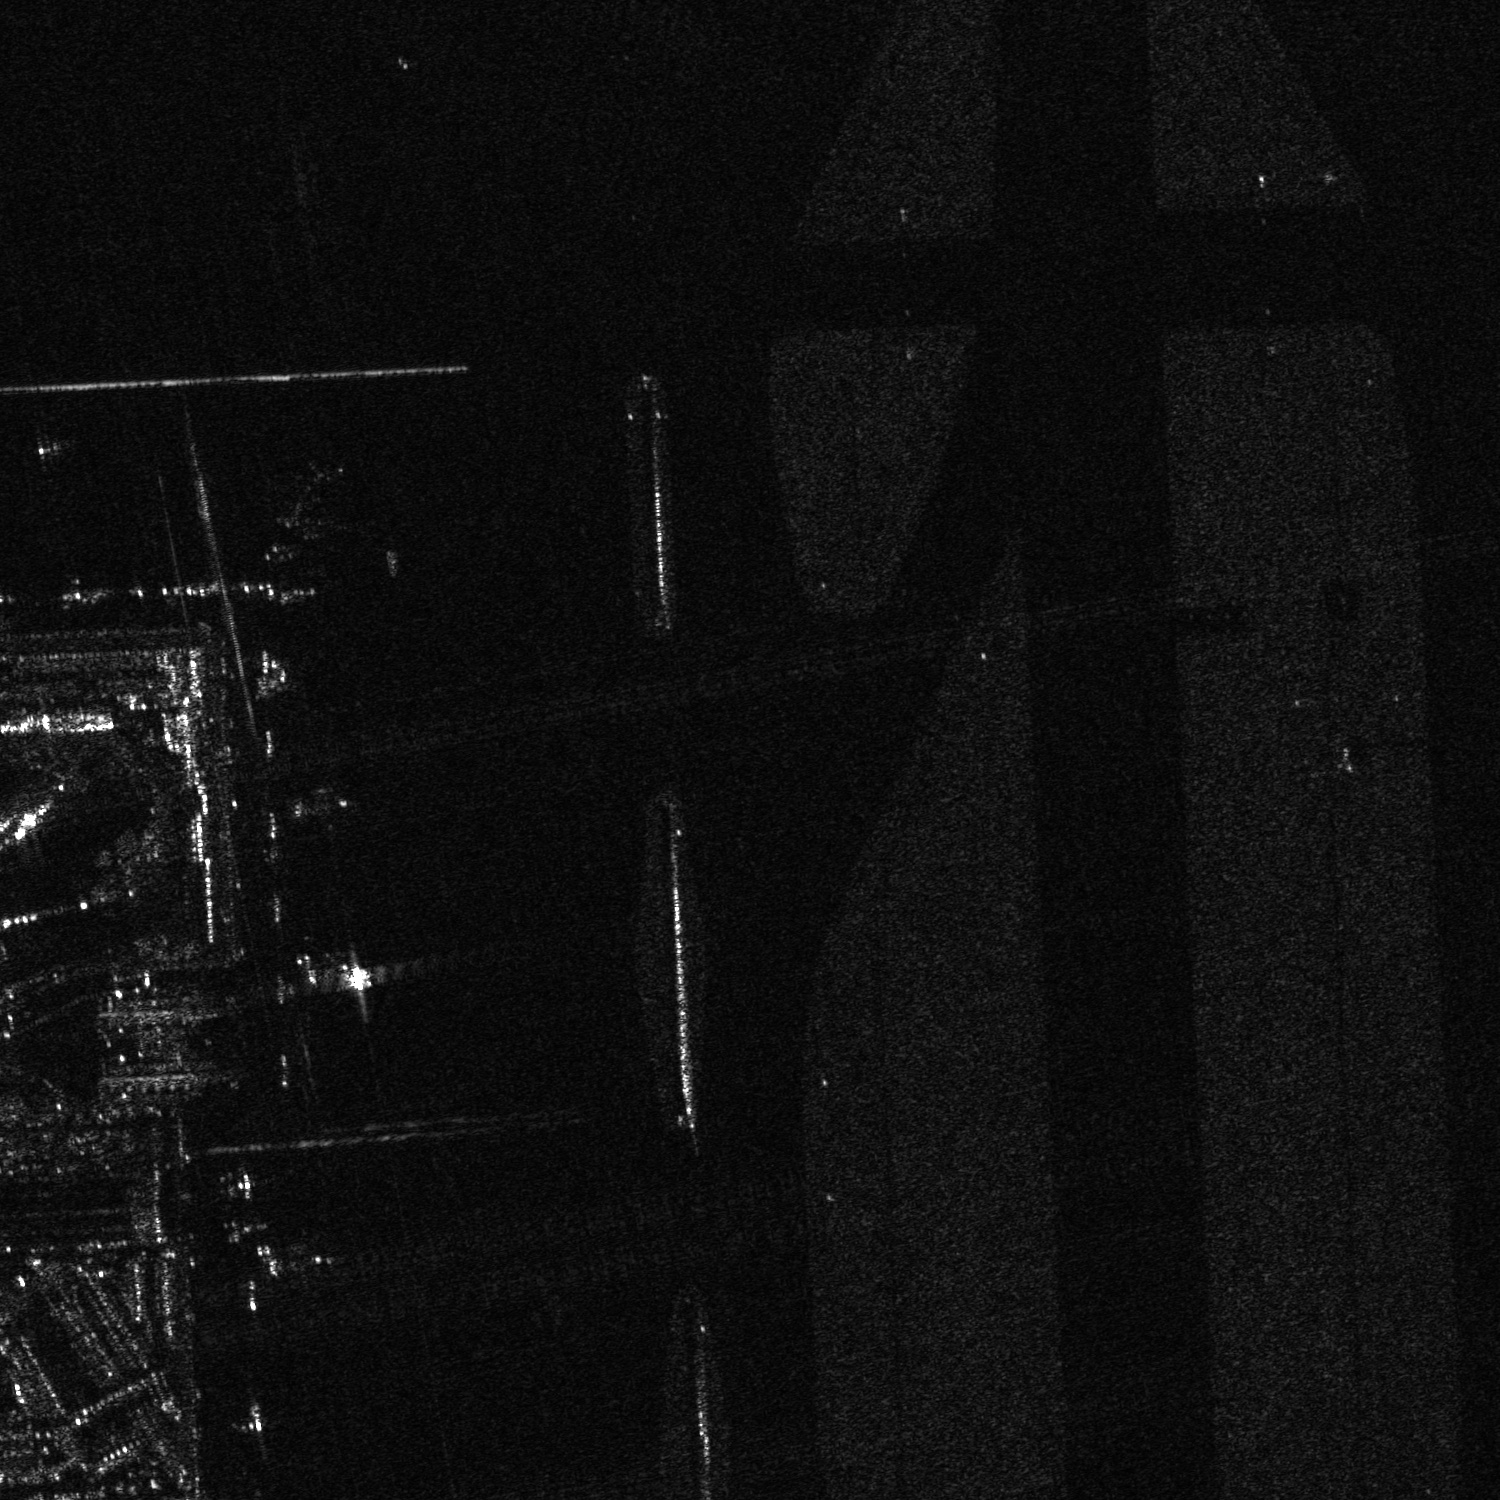A220: (283, 919, 402, 1019), (238, 1234, 343, 1291), (284, 773, 363, 842)
A320/321: (234, 451, 365, 576)
